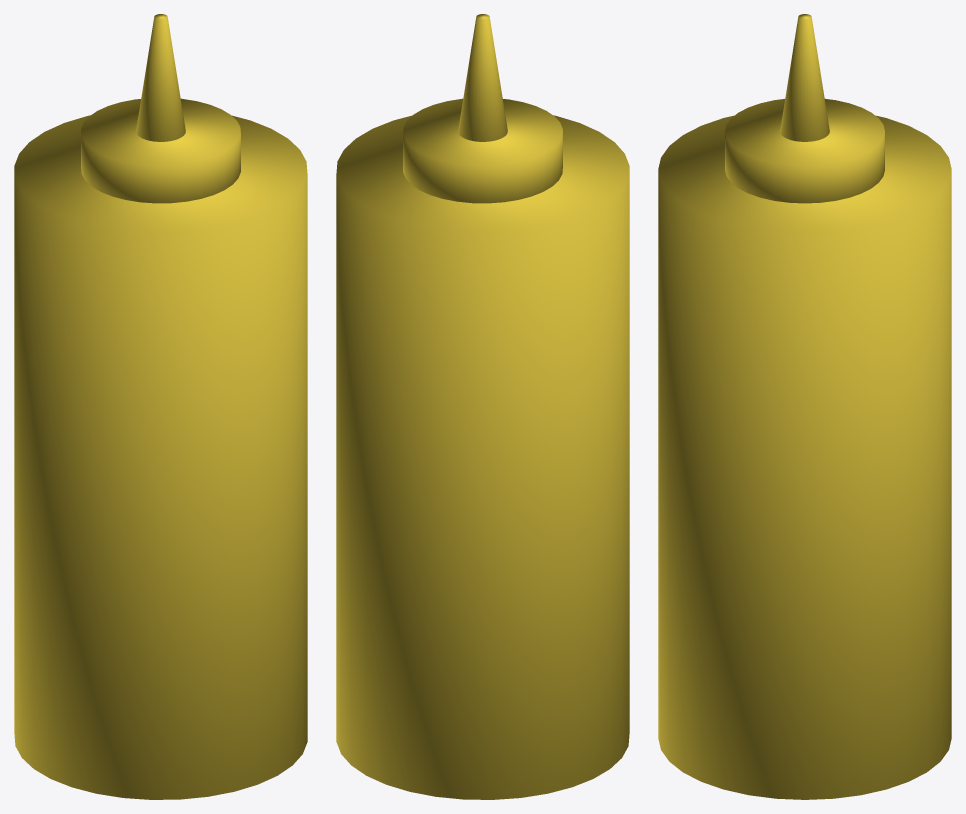
The model's file is mustard-bottle.dae.
The picture shows the model from 3 angles, left to right: view 1: azimuth 30°, elevation 25°; view 2: azimuth 150°, elevation 25°; view 3: azimuth 270°, elevation 25°; orthographic projection.
Parts seen in each view (by area): view 1: Cylinder; view 2: Cylinder; view 3: Cylinder.
Part boxes in pixels (left/top/right/bottom): Cylinder: left=14, top=14, right=307, bottom=799; Cylinder: left=336, top=14, right=629, bottom=799; Cylinder: left=658, top=14, right=951, bottom=799.
Bounding box in the file's own units: 0.9364 × 0.9364 × 2.54.
